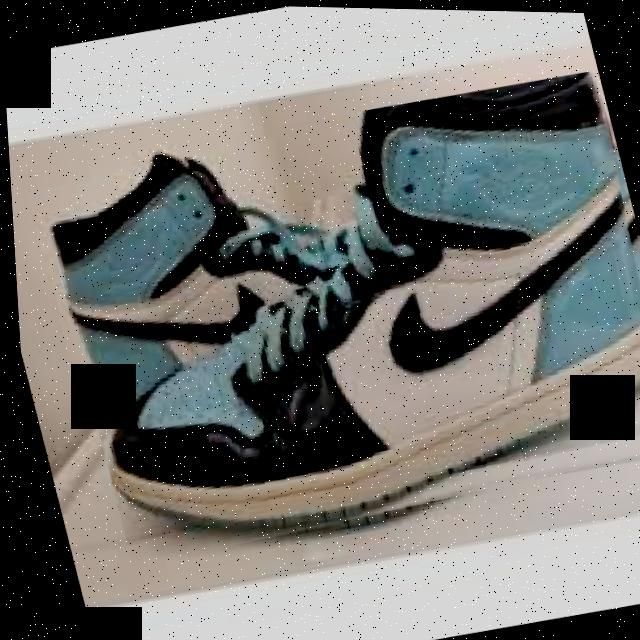shoe: (25, 56, 640, 577)
